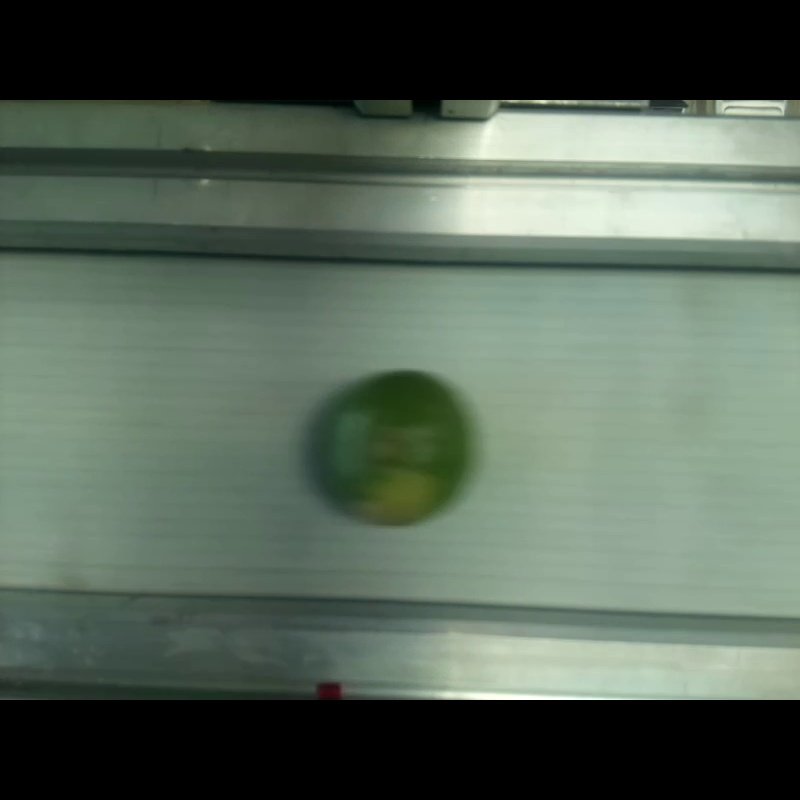lime: (318, 372, 468, 525)
